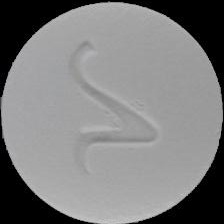50436-3000: (0, 0, 224, 224)
